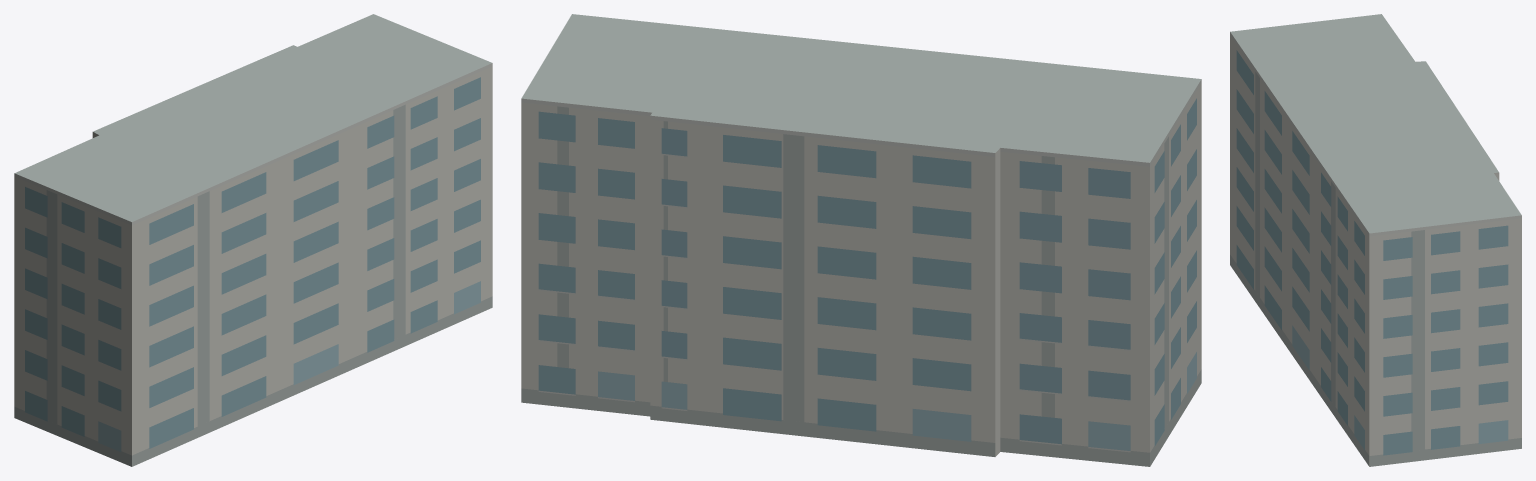
File: survey-upis-32941863.glb
3 renders of one model, left to right at view 1: azimuth 30°, elevation 25°; view 2: azimuth 150°, elevation 25°; view 3: azimuth 270°, elevation 25°, orthographic. The views are drawn at different scales.
Visible parts, largest first — view 1: survey-upis-32941863.tmp; view 2: survey-upis-32941863.tmp; view 3: survey-upis-32941863.tmp.
Boxes of the visible parts, x1,y1,x2,y2 form: survey-upis-32941863.tmp: (14,14,492,466); survey-upis-32941863.tmp: (521,14,1201,466); survey-upis-32941863.tmp: (1230,14,1521,466).
Bounding box in the file's own units: 37.52 × 18.6 × 21.08.
